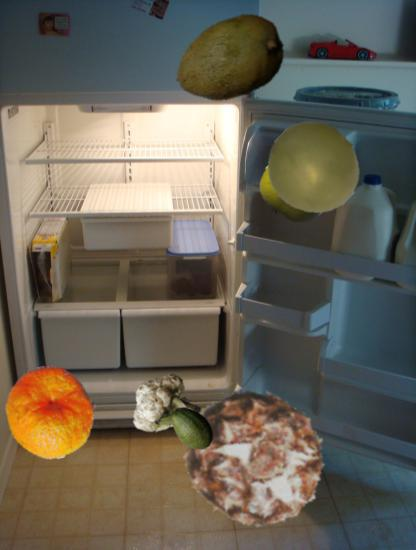Avocado: (166, 402, 218, 454)
Cauliflower: (131, 369, 203, 441)
Grape: (266, 121, 361, 216)
Mandarine: (4, 365, 99, 460)
Papaya: (172, 2, 287, 117)
Pineapple: (183, 386, 328, 531)
Pomelo: (257, 155, 330, 228)
